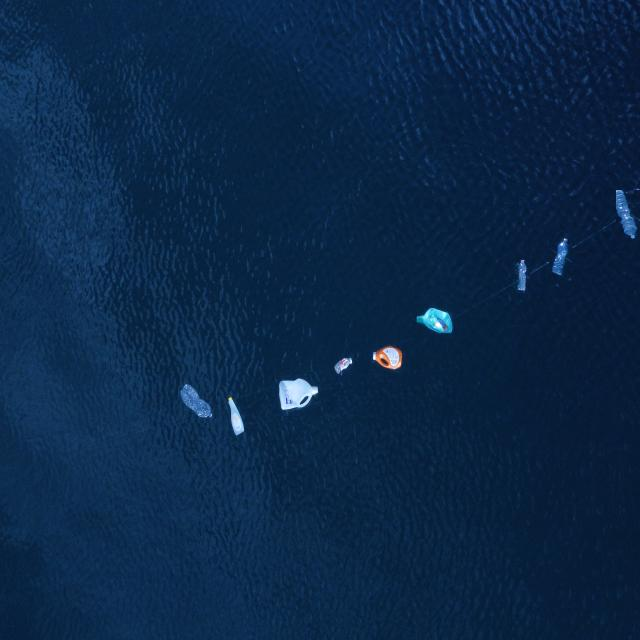bottles: (276, 372, 322, 416), (178, 381, 216, 423), (412, 303, 454, 338), (616, 190, 640, 242), (549, 232, 572, 282), (370, 343, 406, 373), (225, 390, 247, 439), (515, 252, 530, 300), (332, 353, 354, 378)
